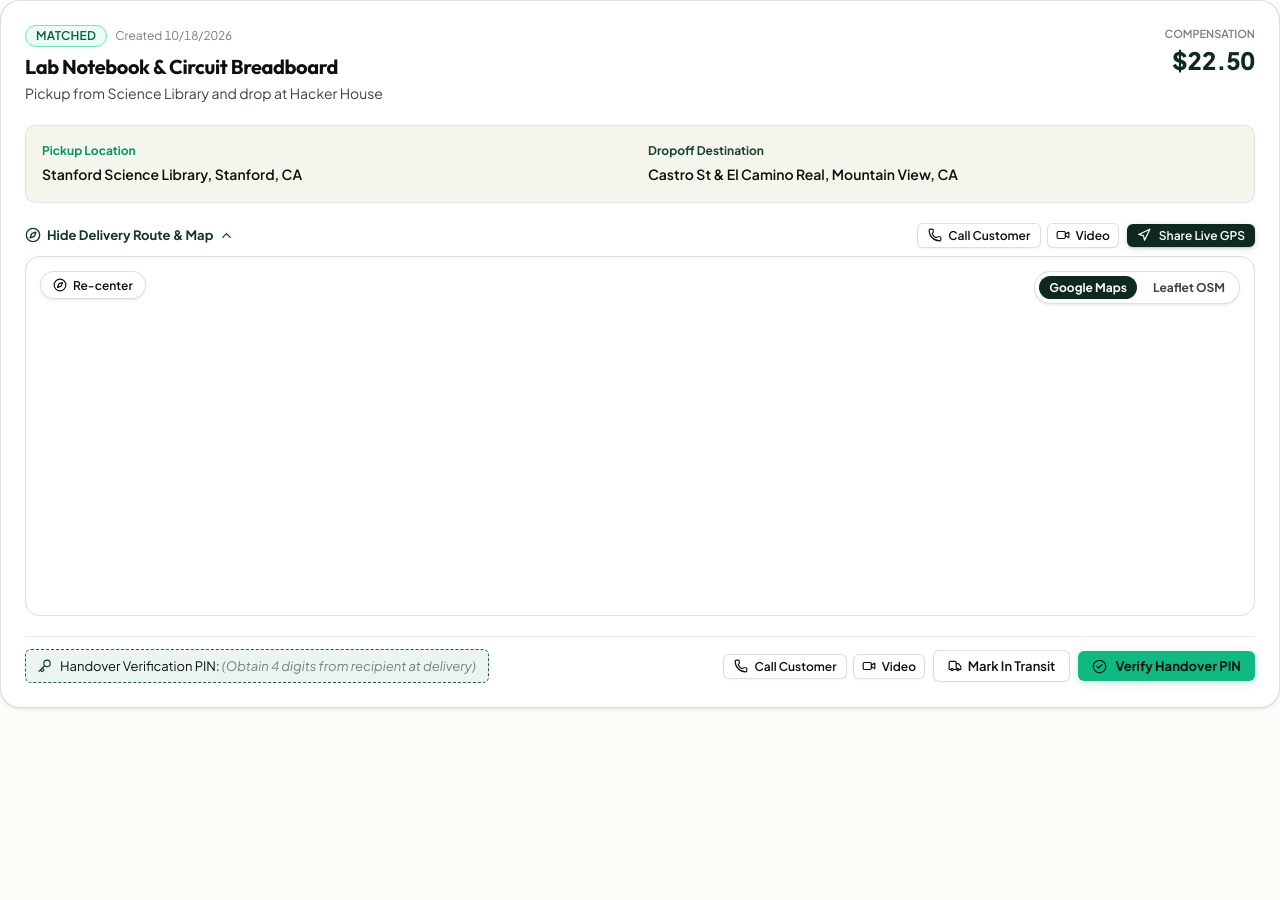
Test: DeliveryCard — Partner Accept & Decline Delivery Buttons › Bug 1: Mark In Transit Role Isolation & Execution › displays error banner if Mark In Transit operation fails or is rejected
Click the button with test id "mark-in-transit-button": (1002, 666) [933, 650, 1070, 682]
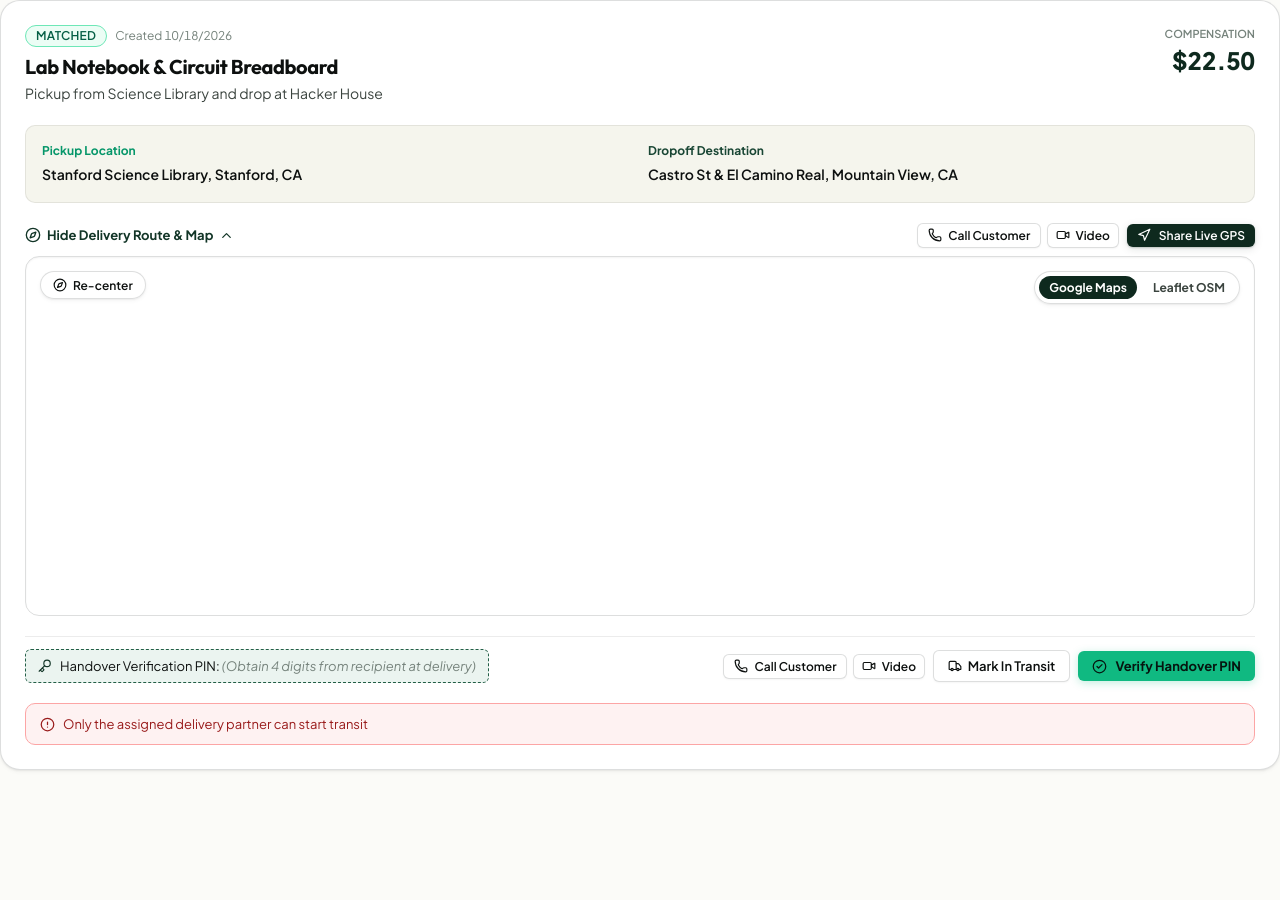
Now the text "Only the assigned delivery partner can start transit" is shown, box [63, 714, 368, 734]
